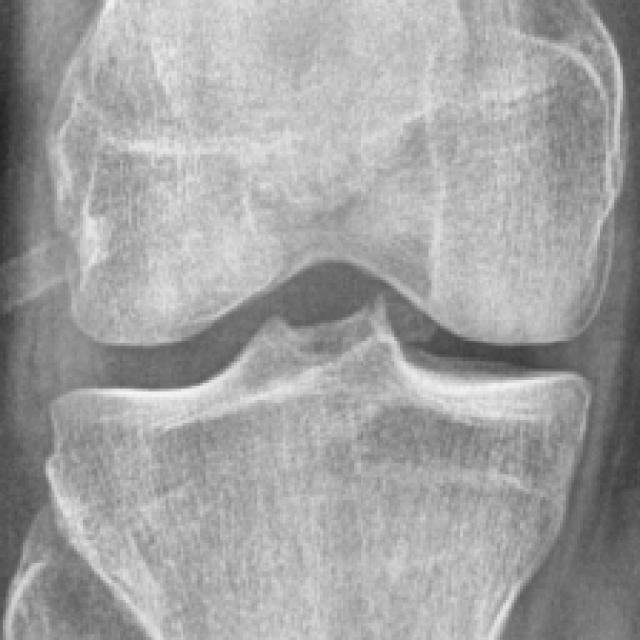femur: (45, 0, 629, 348)
tibia: (51, 311, 588, 640)
